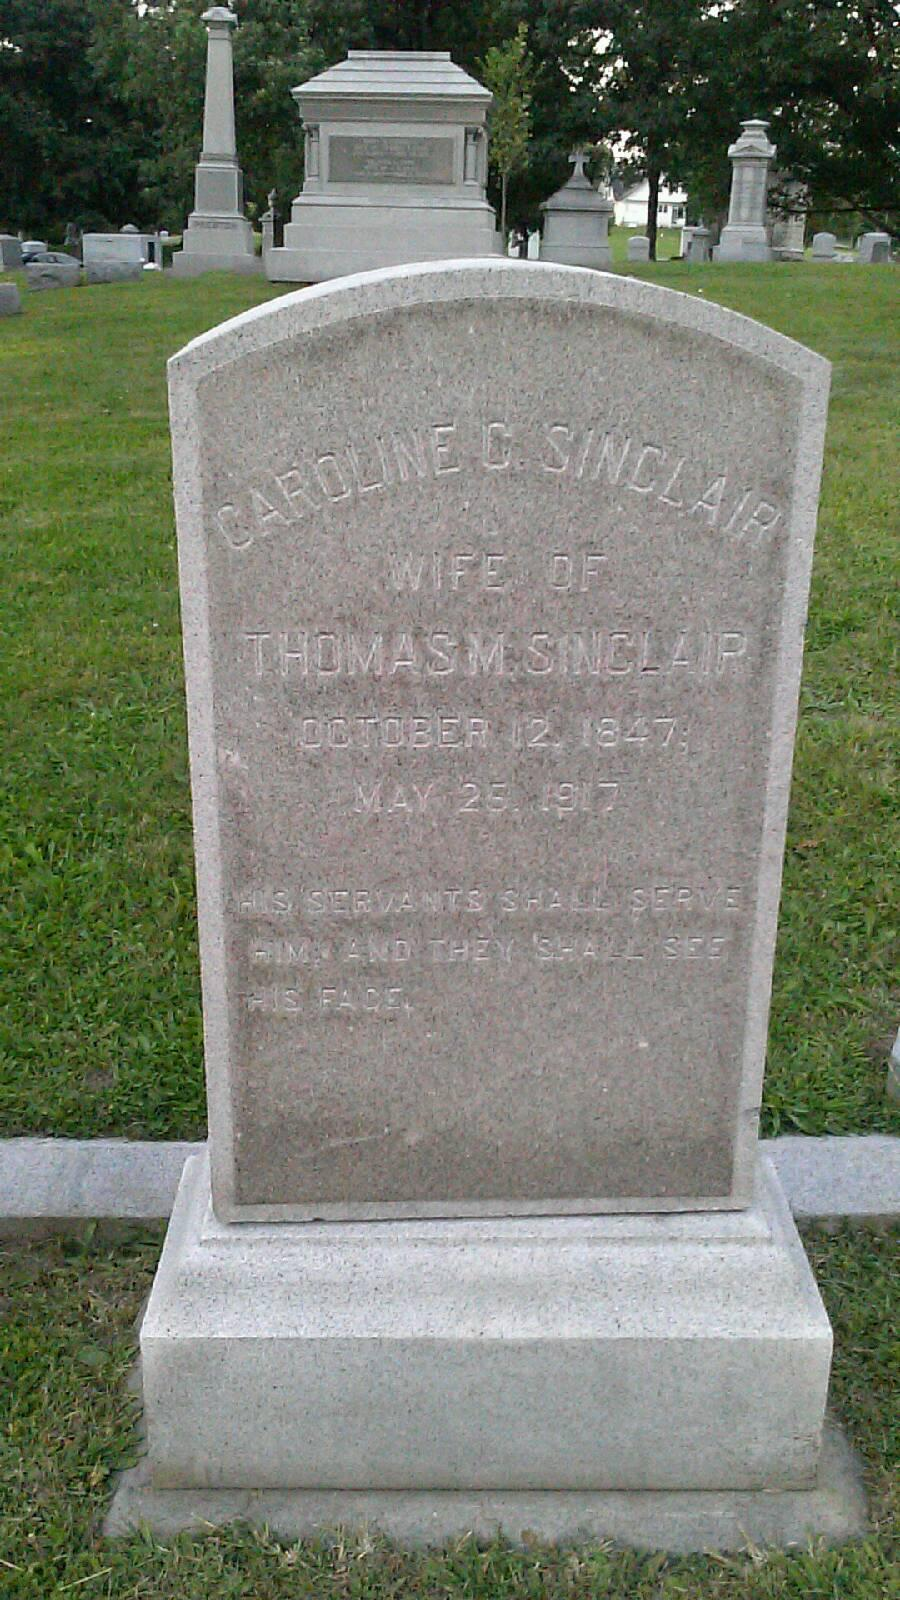upright: (130, 256, 838, 1481)
